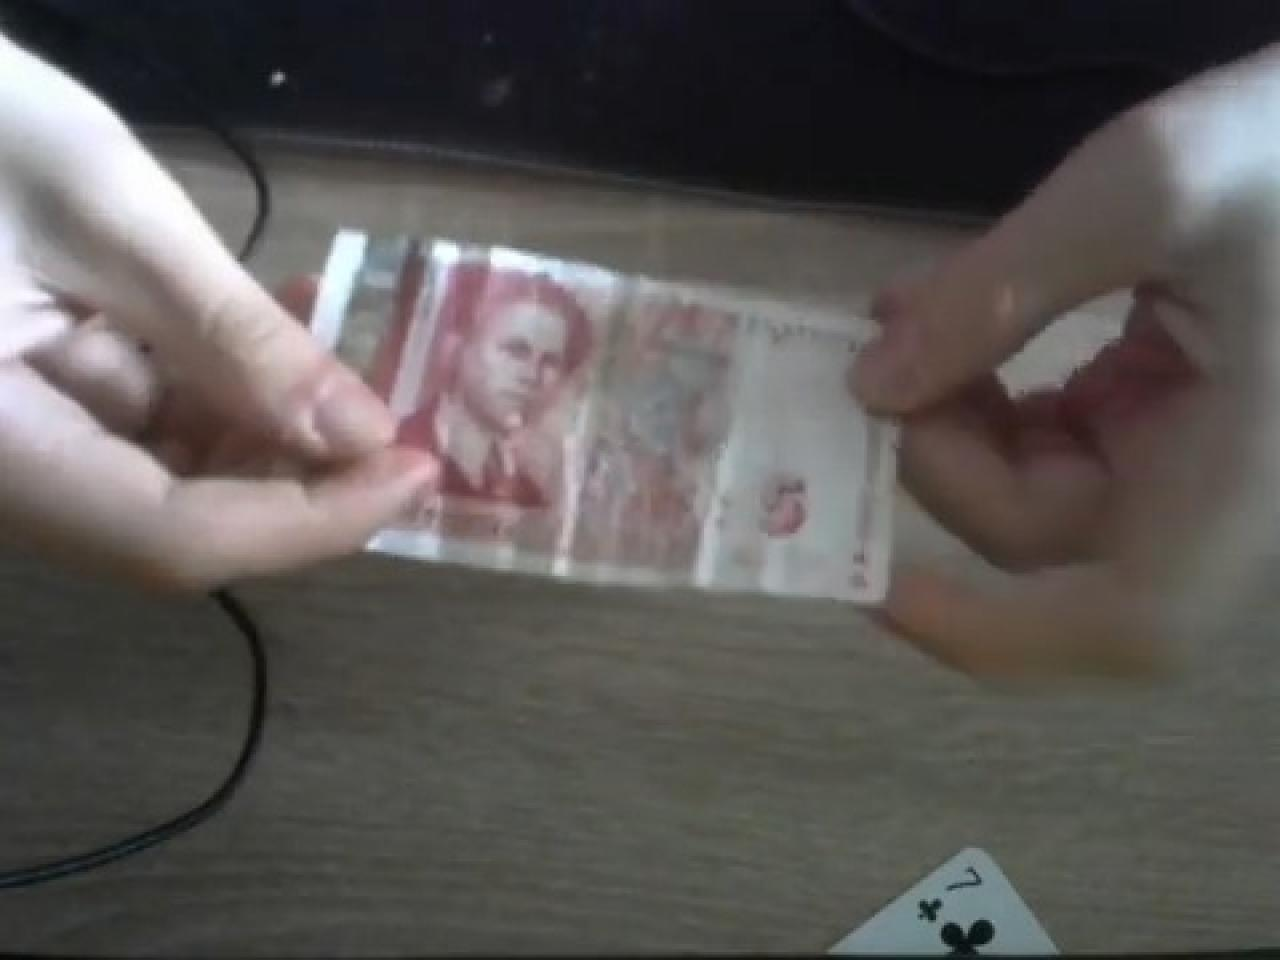5leva: (323, 237, 891, 605)
